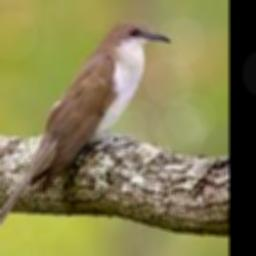Cuckoo: (0, 19, 171, 255)
